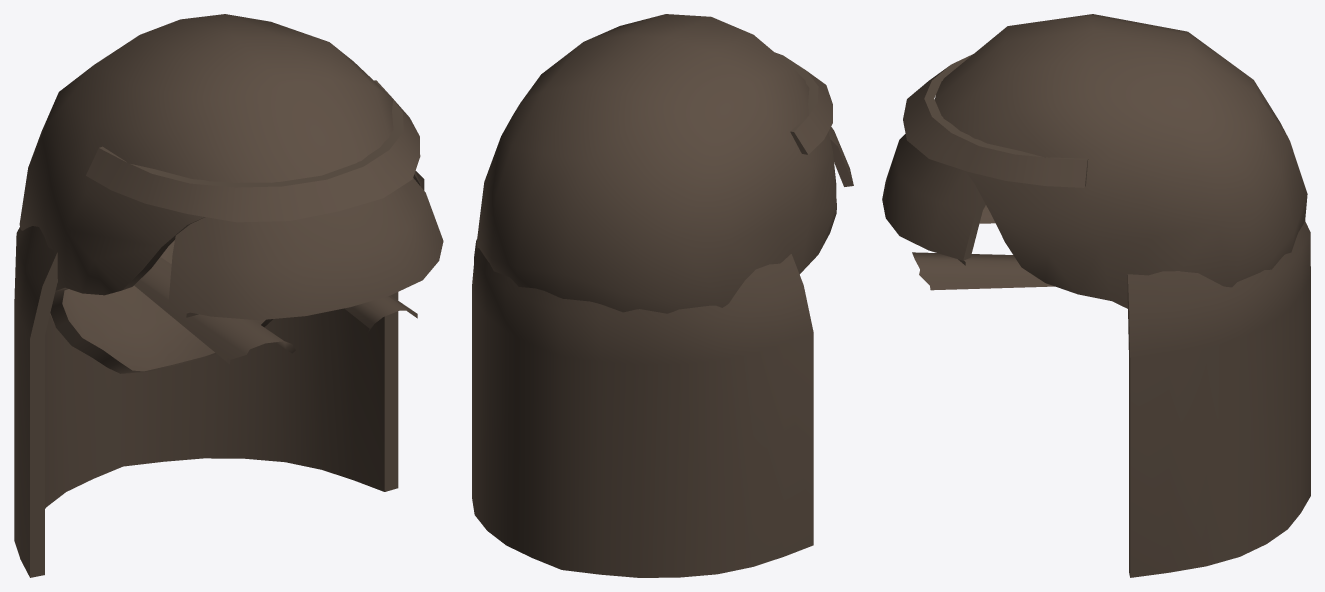
Rendered from hair_f1.glb.
3 views of the same model, side by side, from view 1: azimuth 30°, elevation 25°; view 2: azimuth 150°, elevation 25°; view 3: azimuth 270°, elevation 25° (orthographic). The views are drawn at different scales.
Parts seen in each view (by area): view 1: Hair_f1; view 2: Hair_f1; view 3: Hair_f1.
Part boxes in pixels (box(x1,y1,x2,y2)): Hair_f1: box(14, 14, 443, 577); Hair_f1: box(472, 14, 853, 577); Hair_f1: box(882, 14, 1310, 577).
Size of the model in its own units: 0.2332 by 0.3094 by 0.2581.
